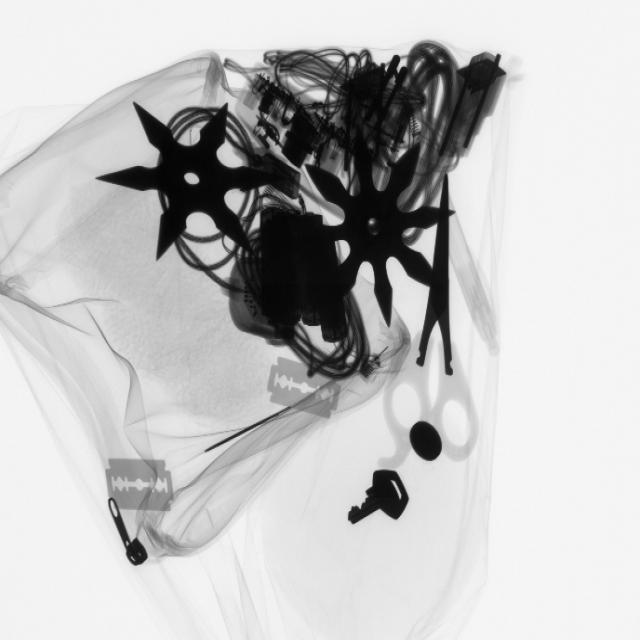BLADE: (260, 353, 347, 426), (99, 449, 181, 524)
SHURIKEN: (106, 100, 280, 272), (304, 130, 445, 334)
